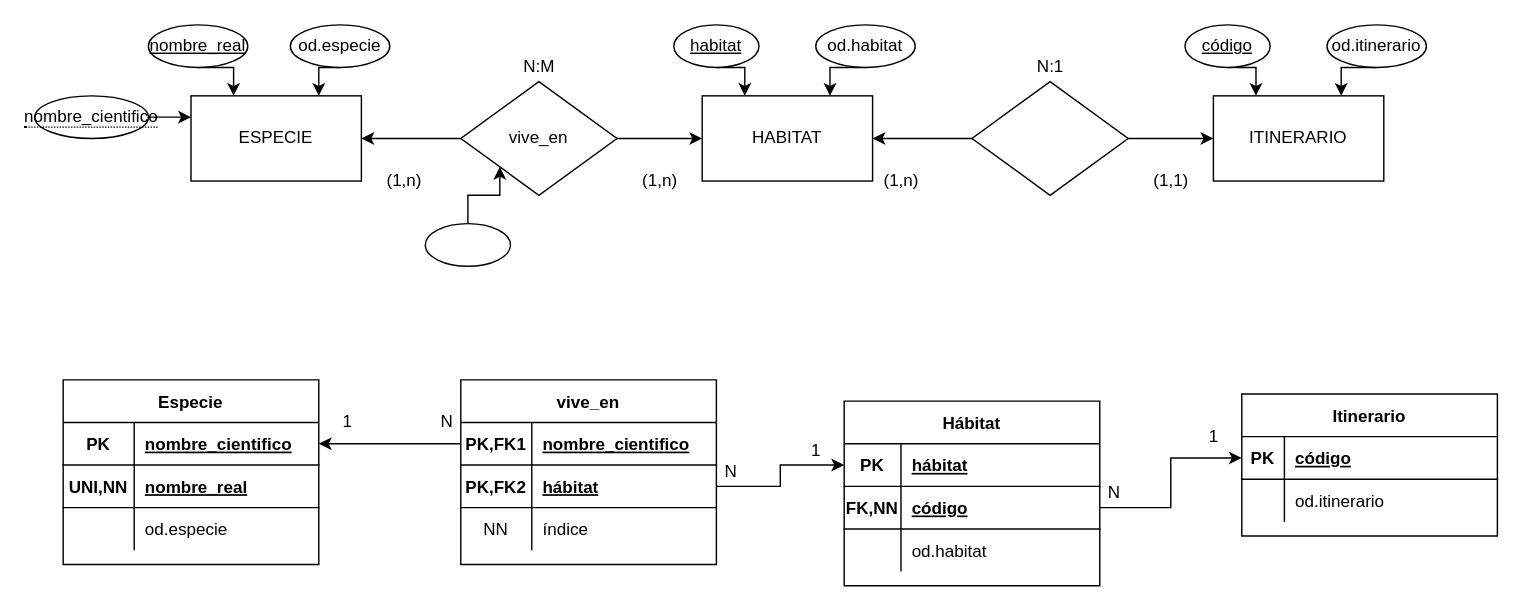
Some shapes in this 1522 by 611 pixel diagram are drawn without their labels. The shapes that lost their labels are listed below. From the top down, each one's centre as x and y in pixels, then its label:
At [1049,137]: "se_realiza".
At [467,244]: "indice".
